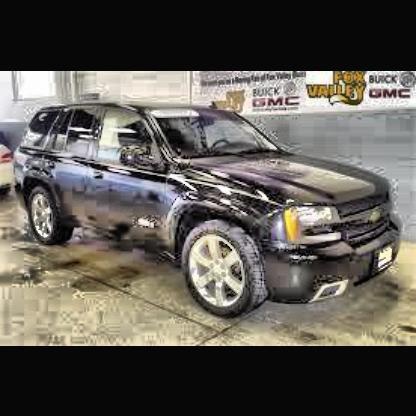Chevrolet TrailBlazer SS 2009: (10, 95, 410, 322)
